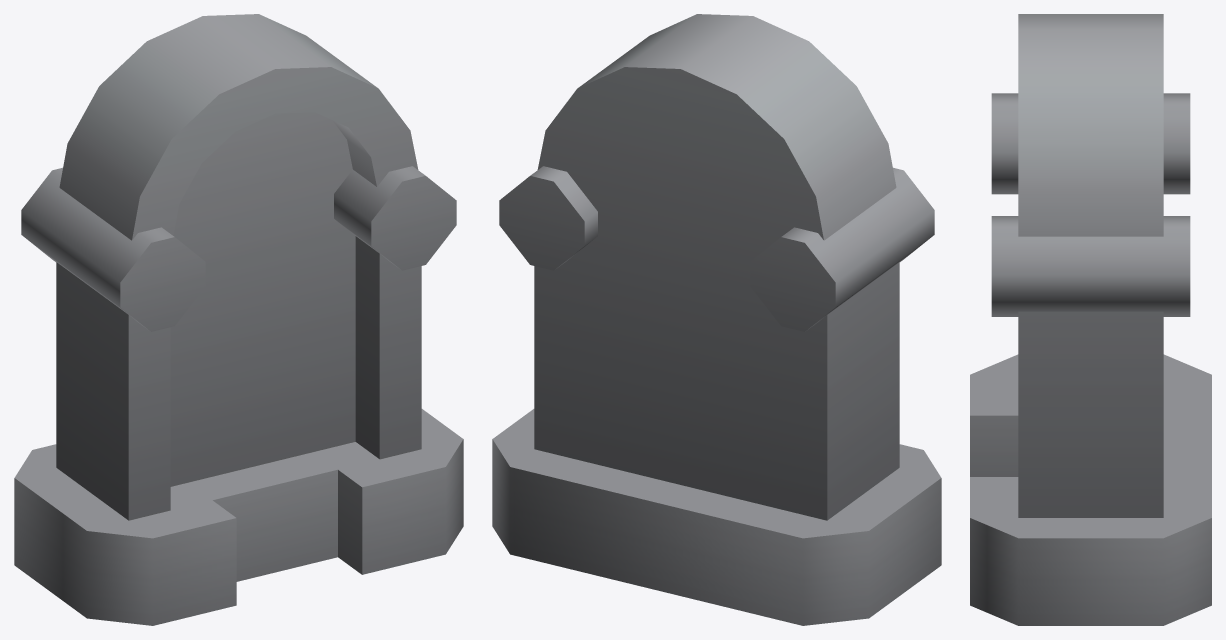
Rendered from gravestone-round.glb.
3 views of the same model, side by side, from view 1: azimuth 30°, elevation 25°; view 2: azimuth 150°, elevation 25°; view 3: azimuth 270°, elevation 25° (orthographic).
Parts seen in each view (by area): view 1: gravestone-round; view 2: gravestone-round; view 3: gravestone-round.
Boxes of the visible parts, x1,y1,x2,y2 form: gravestone-round: (14, 14, 463, 625); gravestone-round: (492, 14, 941, 625); gravestone-round: (970, 14, 1211, 625).
Bounding box in the file's own units: 0.675 × 0.8625 × 0.375.
Materials: 1 (1 with a texture image).
